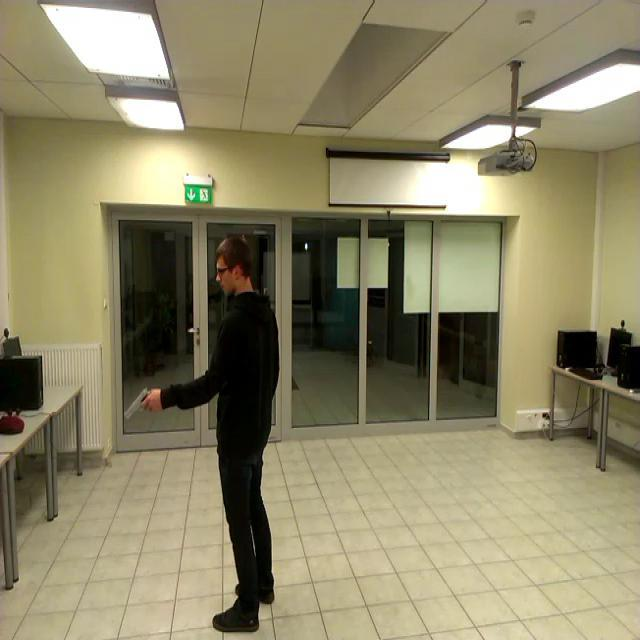Gun: (125, 386, 158, 418)
